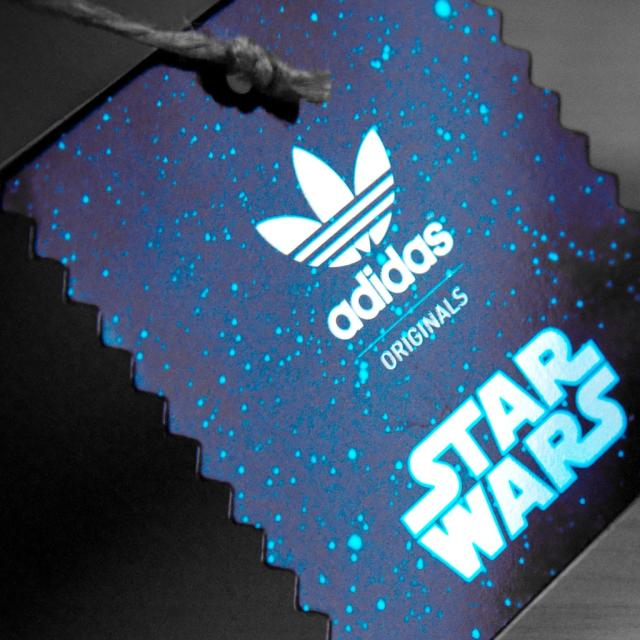adidas: (244, 126, 467, 348)
